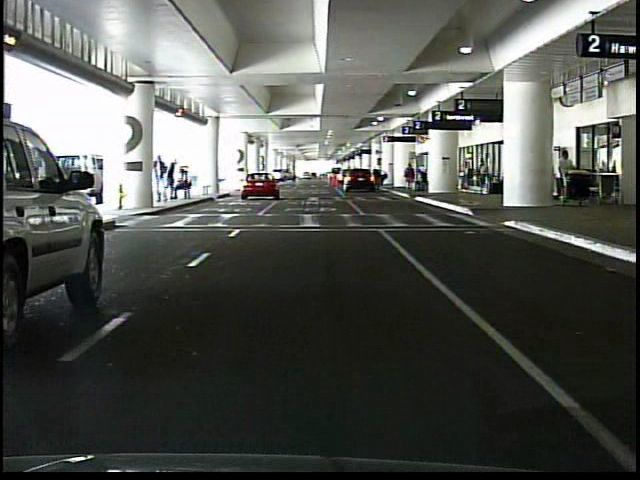person: (554, 149, 575, 205), (155, 151, 171, 204), (172, 169, 193, 201), (168, 159, 179, 201), (402, 162, 416, 193), (477, 161, 488, 196), (457, 162, 470, 190)
